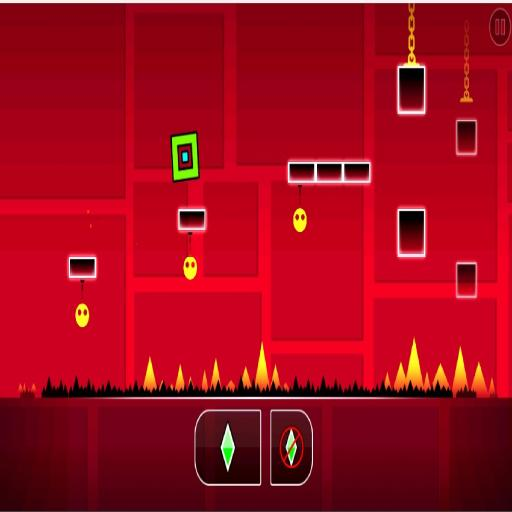block: (285, 157, 372, 188), (396, 206, 429, 263), (396, 65, 427, 118), (454, 256, 479, 302), (454, 118, 480, 161), (176, 204, 210, 233), (66, 254, 100, 282)
player: (172, 132, 199, 181)
spike: (394, 339, 495, 397), (406, 339, 423, 389), (452, 347, 468, 394), (255, 343, 268, 390), (472, 363, 488, 398), (143, 357, 156, 390), (433, 364, 449, 389), (394, 362, 405, 390), (211, 359, 221, 388), (175, 365, 184, 390), (272, 365, 280, 389), (243, 367, 251, 388), (202, 371, 208, 391), (424, 372, 430, 390), (489, 379, 495, 396), (385, 372, 390, 388), (227, 381, 234, 391), (188, 377, 193, 387), (283, 383, 289, 391), (31, 384, 36, 393), (159, 381, 163, 390), (19, 383, 22, 392), (23, 384, 26, 392), (170, 385, 174, 390)
